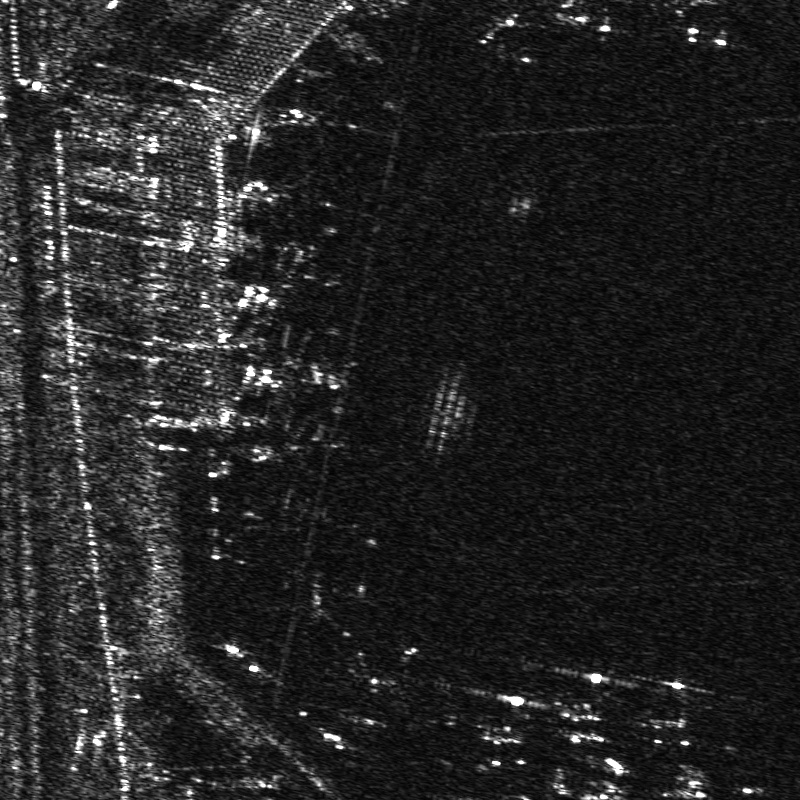A220: (537, 664, 613, 754)
Boeing737: (450, 683, 532, 757)
other: (630, 675, 701, 752)
